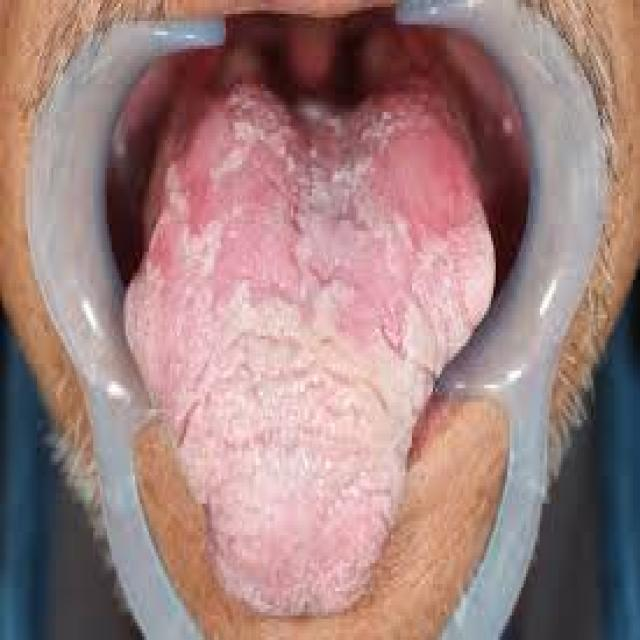discolored_patch: (119, 21, 498, 616)
